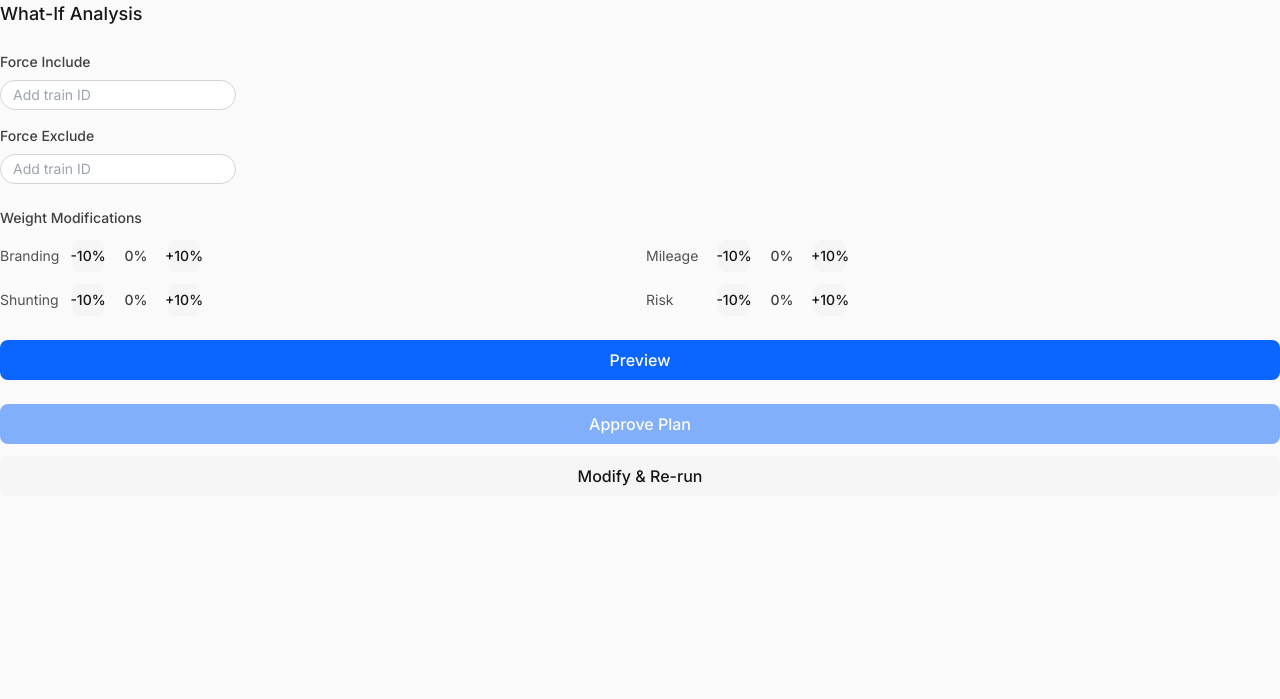
Test case: WhatIfPanel › shows top assignment changes when preview results are available
Note: Run preview
Click the button "Preview": x=640, y=360 [0, 340, 1279, 380]
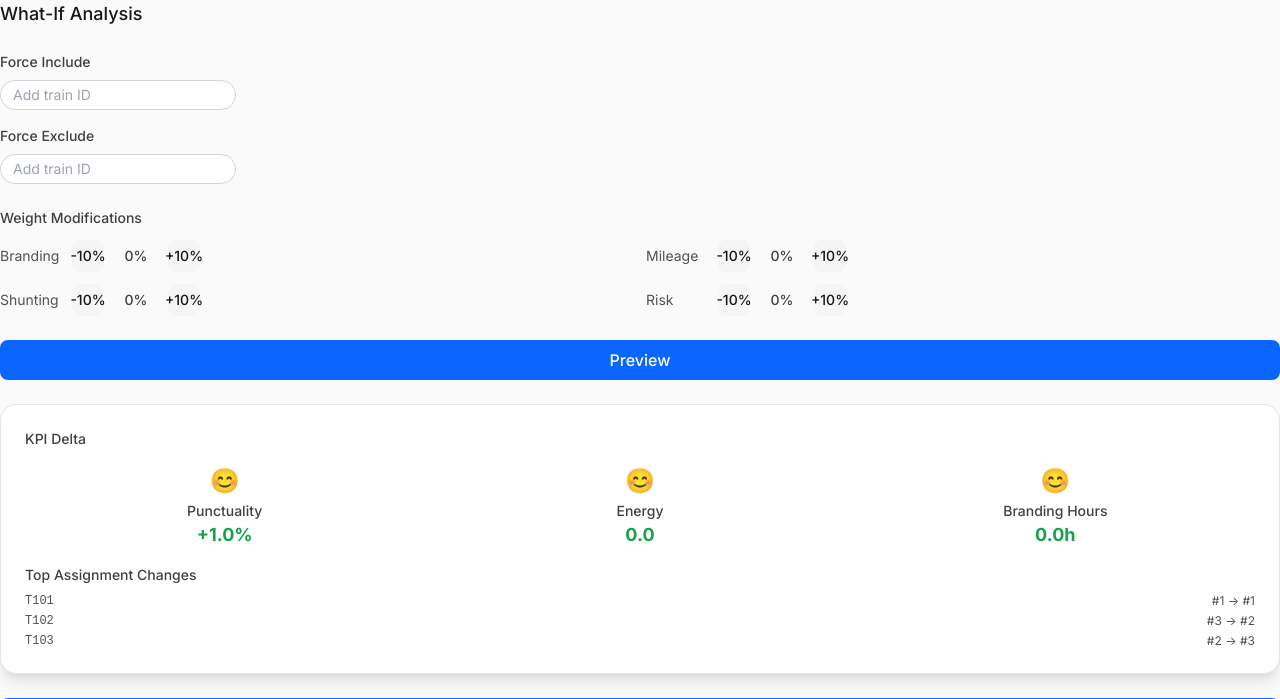
Expected: the heading "Top Assignment Changes" is shown, [25, 566, 196, 583]
Expected: the text "T101" is shown, [25, 593, 54, 609]
Expected: the text "T102" is shown, [25, 613, 54, 629]
